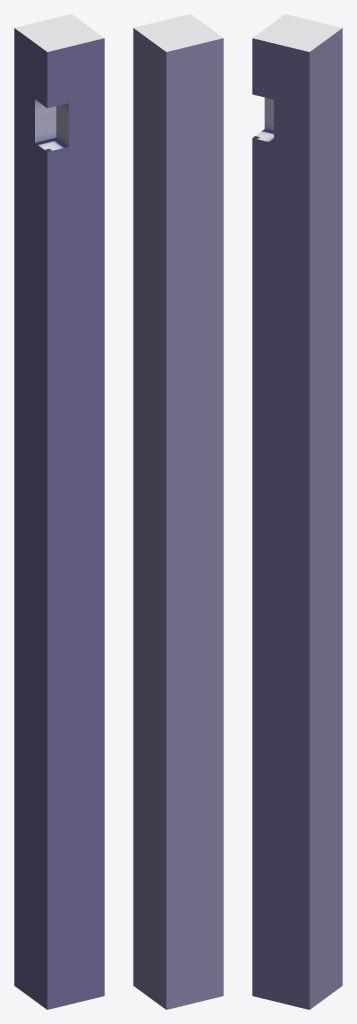
The model's file is my_gehennaparty_01_wall_side.glb.
3 renders of one model, left to right at view 1: azimuth 30°, elevation 25°; view 2: azimuth 210°, elevation 25°; view 3: azimuth 330°, elevation 25°, orthographic.
Parts seen in each view (by area): view 1: my_gehennaparty_01_wall_side; view 2: my_gehennaparty_01_wall_side; view 3: my_gehennaparty_01_wall_side.
Boxes of the visible parts, bbox=[...] form: my_gehennaparty_01_wall_side: bbox=[14, 14, 104, 1009]; my_gehennaparty_01_wall_side: bbox=[133, 14, 223, 1009]; my_gehennaparty_01_wall_side: bbox=[252, 14, 342, 1009].
Bounding box in the file's own units: 0.003 × 0.048 × 0.003.
Materials: 1 (1 with a texture image).
